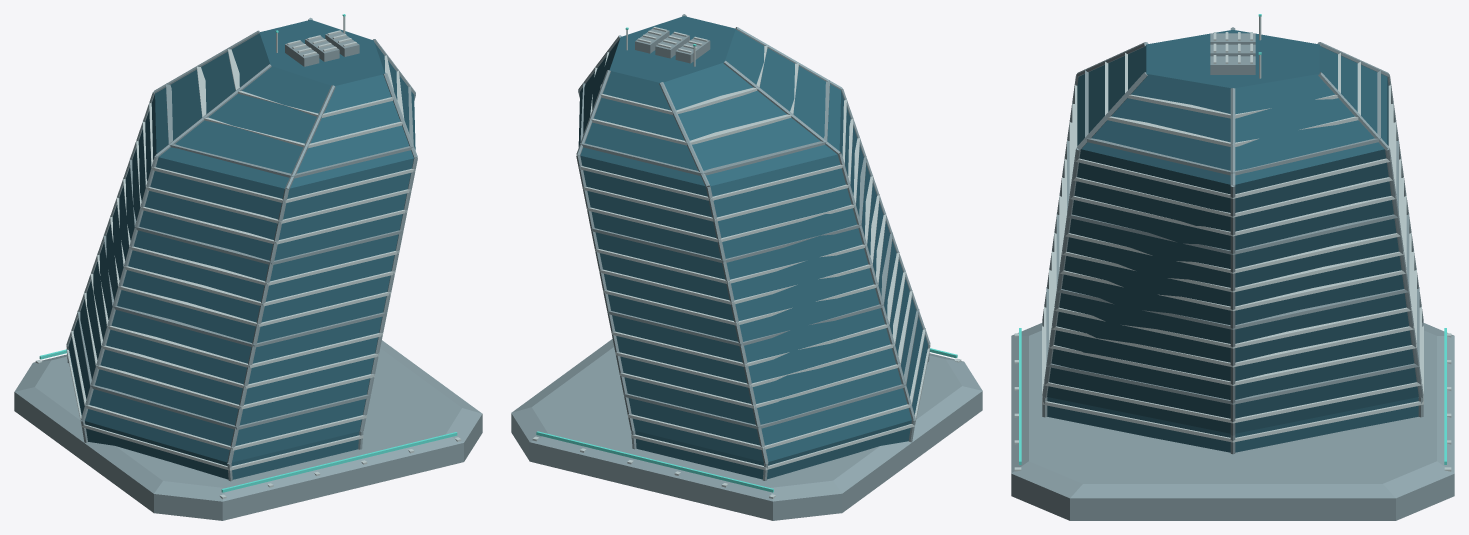
The model's file is Prism.fbx.
The picture shows the model from 3 angles, left to right: view 1: azimuth 30°, elevation 25°; view 2: azimuth 150°, elevation 25°; view 3: azimuth 270°, elevation 25°; orthographic projection. The views are drawn at different scales.
Parts seen in each view (by area): view 1: Far FutureGlass, Near FutureShell, Near FutureMetal, Near FutureNeon; view 2: Far FutureGlass, Near FutureShell, Near FutureMetal, Near FutureNeon; view 3: Far FutureGlass, Near FutureShell, Near FutureMetal, Near FutureNeon.
Boxes of the visible parts, x1=… form: Far FutureGlass: x1=68, y1=20, x2=415, y2=479; Near FutureShell: x1=14, y1=17, x2=482, y2=520; Near FutureMetal: x1=35, y1=16, x2=461, y2=499; Near FutureNeon: x1=39, y1=14, x2=457, y2=492; Far FutureGlass: x1=578, y1=16, x2=927, y2=479; Near FutureShell: x1=511, y1=14, x2=982, y2=520; Near FutureMetal: x1=532, y1=27, x2=961, y2=498; Near FutureNeon: x1=536, y1=27, x2=957, y2=492; Far FutureGlass: x1=1047, y1=30, x2=1418, y2=452; Near FutureShell: x1=1011, y1=27, x2=1454, y2=520; Near FutureMetal: x1=1014, y1=16, x2=1451, y2=471; Near FutureNeon: x1=1019, y1=14, x2=1446, y2=464.
Size of what is drawn, in the model's own units: 99.93 by 106 by 98.
